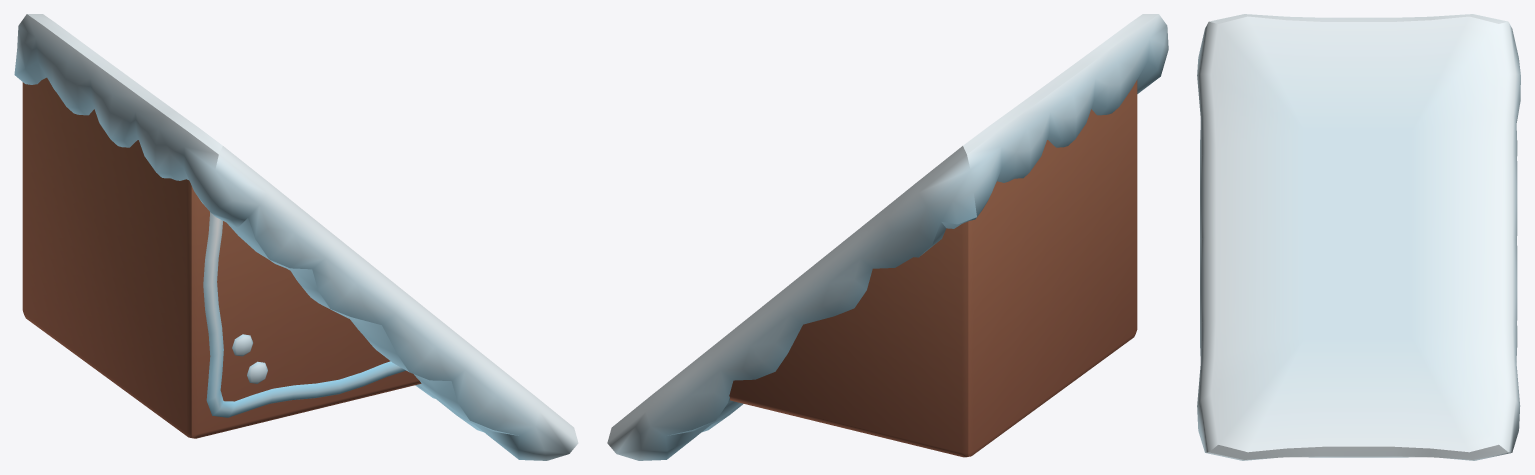
The model's file is roof_gingerbread_right_overhang.obj.
3 renders of one model, left to right at view 1: azimuth 30°, elevation 25°; view 2: azimuth 150°, elevation 25°; view 3: azimuth 270°, elevation 25°, orthographic. The views are drawn at different scales.
Parts seen in each view (by area): view 1: roof_gingerbread_right_overhang; view 2: roof_gingerbread_right_overhang; view 3: roof_gingerbread_right_overhang.
Boxes of the visible parts, x1,y1,x2,y2 form: roof_gingerbread_right_overhang: [14, 14, 578, 460]; roof_gingerbread_right_overhang: [607, 14, 1168, 460]; roof_gingerbread_right_overhang: [1197, 14, 1520, 460].
Size of the model in its own units: 5.15 by 5.15 by 4.84.
1 material, 1 textured.
